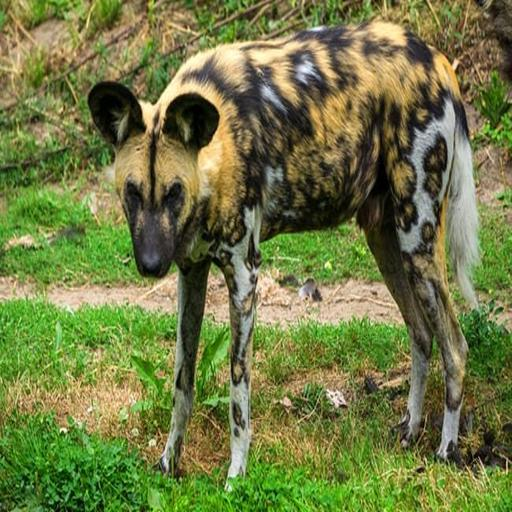Hyena: (84, 23, 486, 499)
